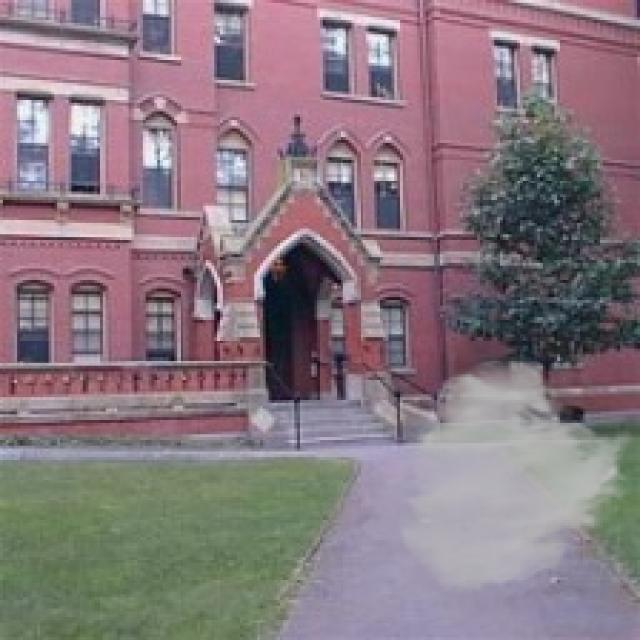smoke: (394, 354, 637, 594)
